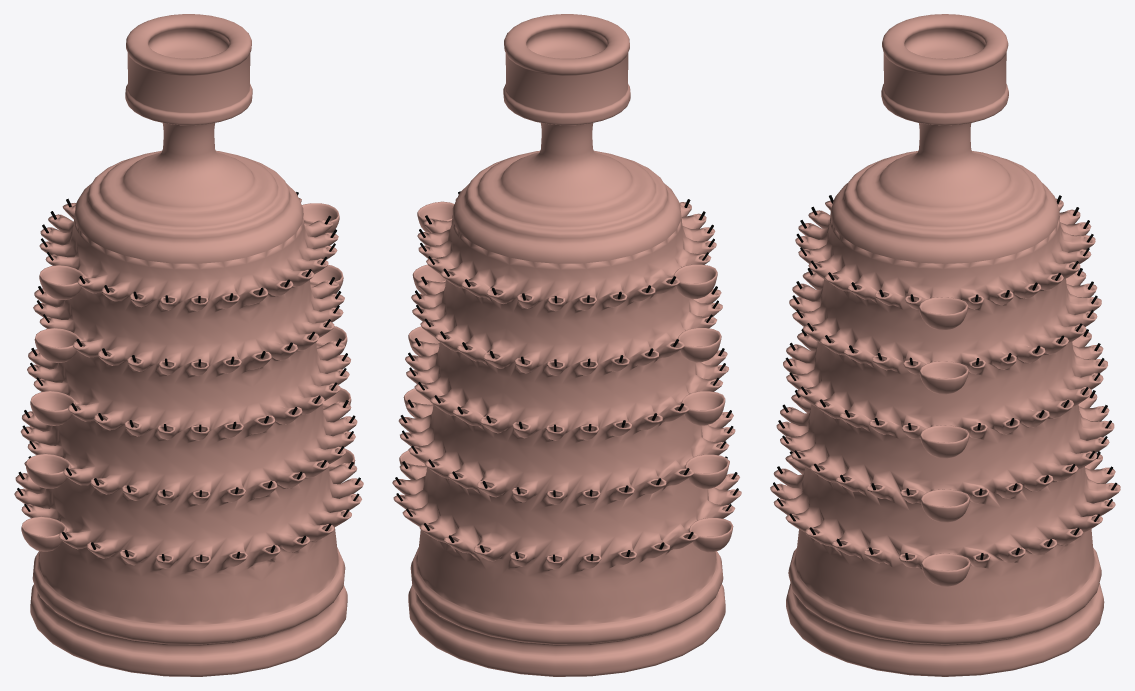
File: cyprus_lamp.obj
The picture shows the model from 3 angles, left to right: view 1: azimuth 30°, elevation 25°; view 2: azimuth 150°, elevation 25°; view 3: azimuth 270°, elevation 25°; orthographic projection.
Visible parts, largest first — view 1: Lamp; view 2: Lamp; view 3: Lamp.
Boxes of the visible parts, x1,y1,x2,y2 form: Lamp: [14, 14, 363, 676]; Lamp: [392, 14, 741, 676]; Lamp: [770, 14, 1120, 676].
Bounding box in the file's own units: 1.86 × 3.13 × 1.73.
